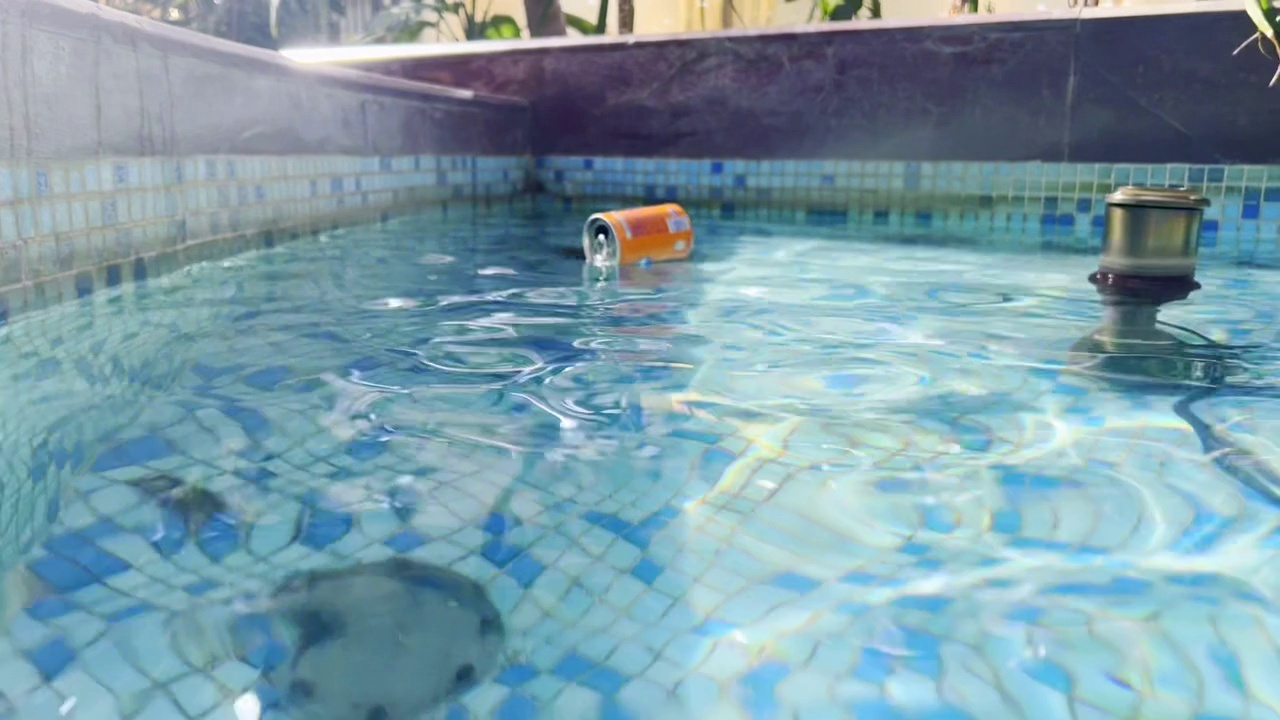debris: (567, 191, 700, 273)
